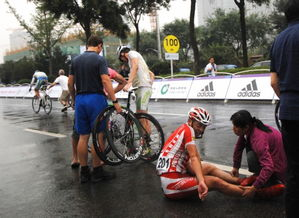fall: (147, 99, 278, 209)
